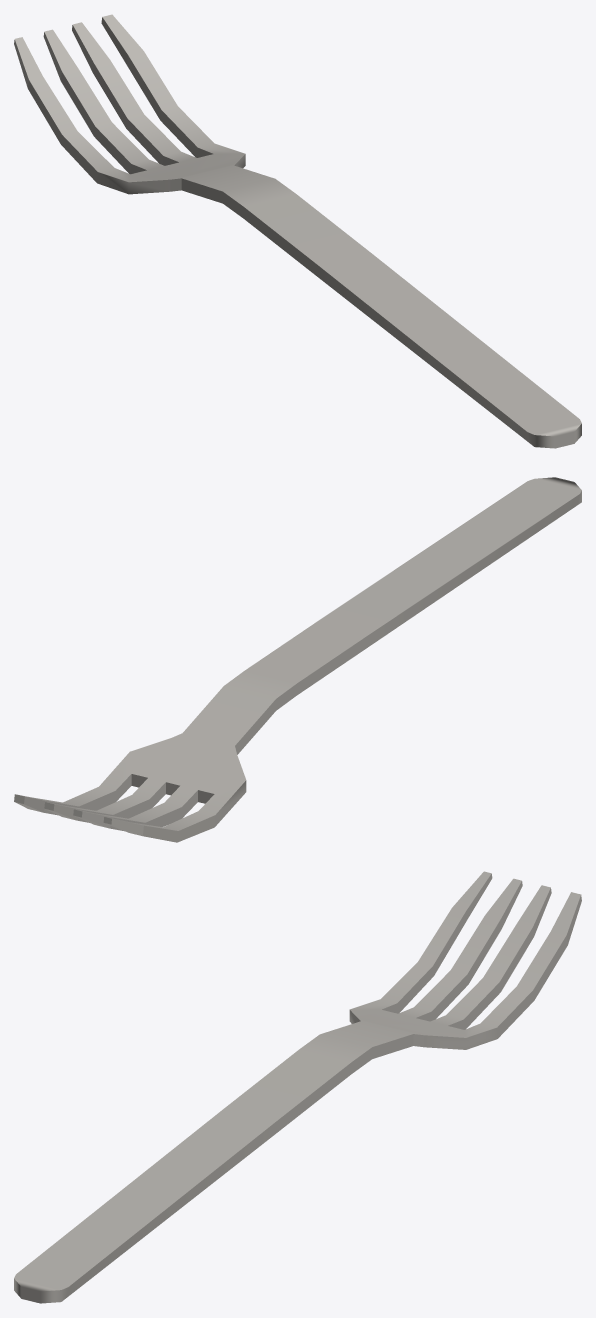
File: Fork.fbx
The picture shows the model from 3 angles, top to bottom: view 1: azimuth 30°, elevation 25°; view 2: azimuth 150°, elevation 25°; view 3: azimuth 330°, elevation 25°; orthographic projection.
Parts seen in each view (by area): view 1: FORK:pCube1; view 2: FORK:pCube1; view 3: FORK:pCube1.
Boxes of the visible parts, box(x1,y1,x2,y2) form: FORK:pCube1: box(14, 14, 581, 448); FORK:pCube1: box(14, 477, 581, 842); FORK:pCube1: box(14, 871, 581, 1303).
Bounding box in the file's own units: 3.95 × 2.42 × 29.47.
